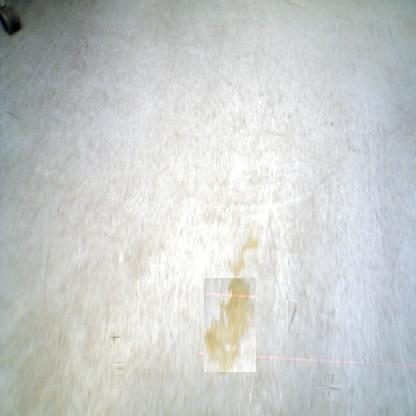liquid: (204, 278, 256, 372), (228, 230, 258, 277)
mark: (287, 300, 298, 333), (321, 379, 339, 396), (4, 108, 18, 122), (109, 332, 119, 341), (114, 363, 123, 373), (84, 40, 88, 48), (154, 39, 158, 47)
